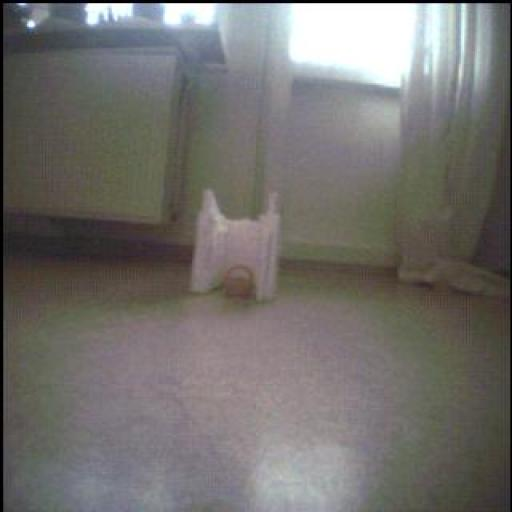Basket: (225, 267, 255, 299)
